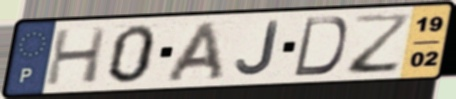0: (106, 23, 160, 85)
A: (162, 19, 227, 84)
D: (290, 15, 350, 78)
H: (43, 25, 110, 88)
J: (234, 19, 283, 78)
Z: (346, 11, 414, 76)
